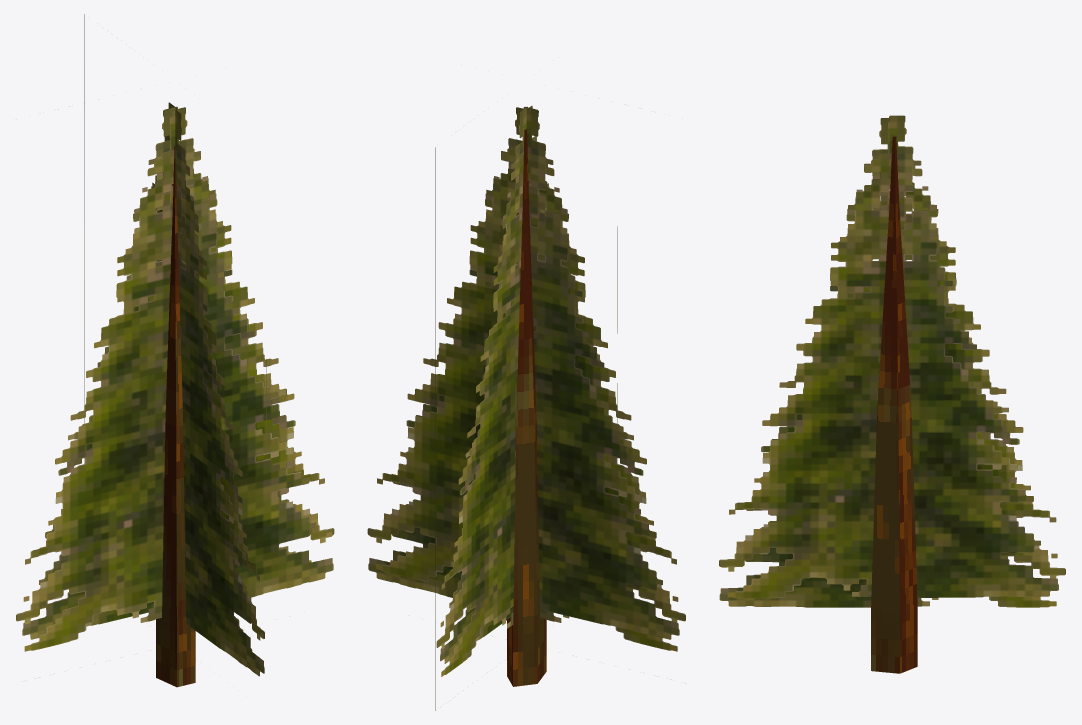
File: Tree.fbx
The picture shows the model from 3 angles, left to right: view 1: azimuth 30°, elevation 25°; view 2: azimuth 150°, elevation 25°; view 3: azimuth 270°, elevation 25°; orthographic projection. The views are drawn at different scales.
Parts seen in each view (by area): view 1: Cube, Cube.001, Cylinder; view 2: Cube, Cube.001, Cylinder; view 3: Cube.001, Cylinder.
Part boxes in pixels (<box>): Cube: <box>16,106,334,651</box>; Cube.001: <box>84,14,266,676</box>; Cylinder: <box>156,145,195,687</box>; Cube: <box>367,107,685,651</box>; Cube.001: <box>435,106,617,710</box>; Cylinder: <box>507,129,546,686</box>; Cube.001: <box>719,115,1065,607</box>; Cylinder: <box>871,136,917,673</box>.
Bounding box in the file's own units: 533 × 942 × 521.
Materials: 2 (2 with a texture image).
